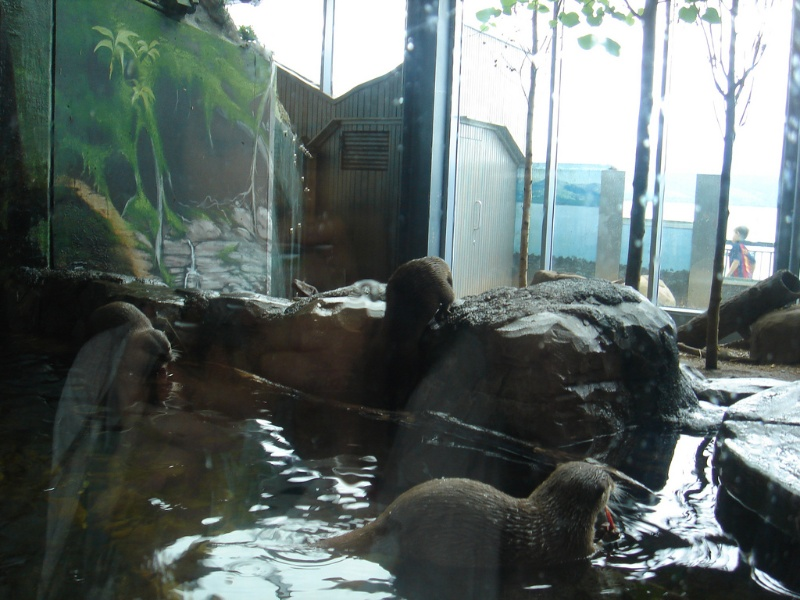minkish: (320, 454, 617, 591), (369, 252, 463, 369)
